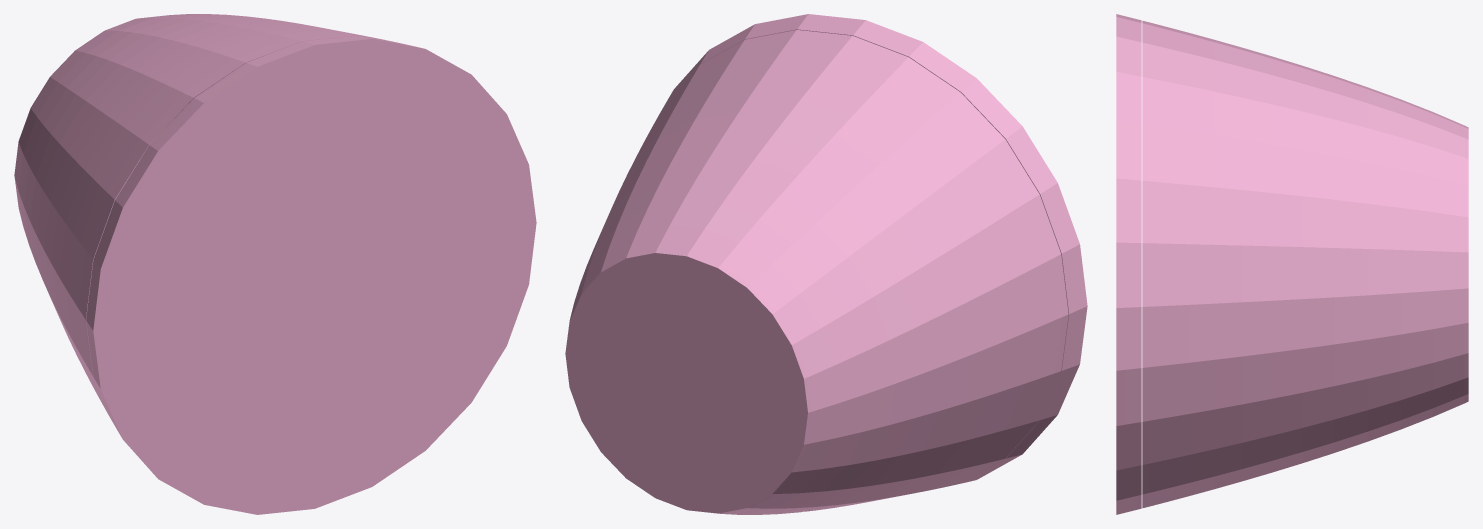
Rendered from tinker.obj.
3 renders of one model, left to right at view 1: azimuth 30°, elevation 25°; view 2: azimuth 150°, elevation 25°; view 3: azimuth 270°, elevation 25°, orthographic.
Visible parts, largest first — view 1: obj_0; view 2: obj_0; view 3: obj_0.
Part boxes in pixels (<box>): obj_0: <box>14,14,536,514</box>; obj_0: <box>565,14,1087,514</box>; obj_0: <box>1116,14,1468,514</box>.
Size of the model in its own units: 200 by 200 by 140.
